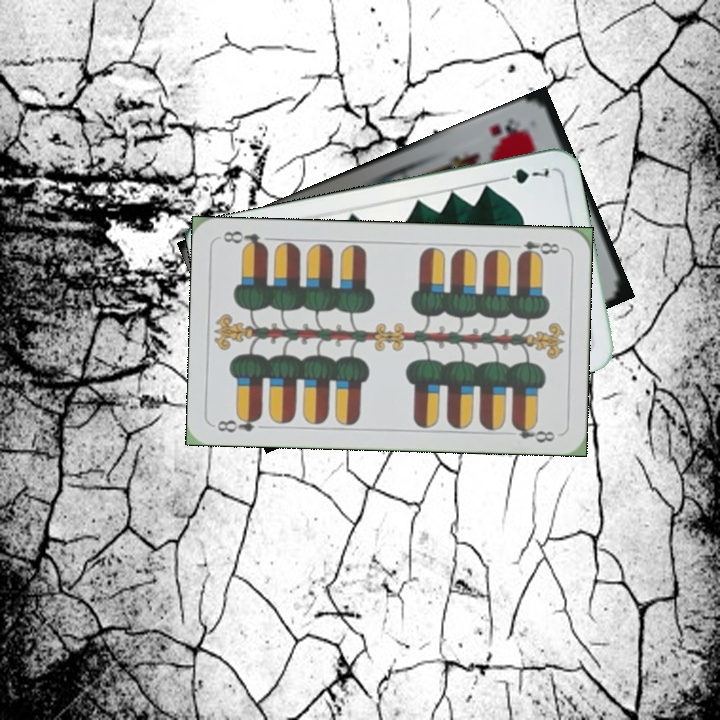E8: (507, 237, 566, 260), (213, 411, 265, 436)
G7: (495, 163, 552, 187)
HK: (486, 114, 530, 143)
